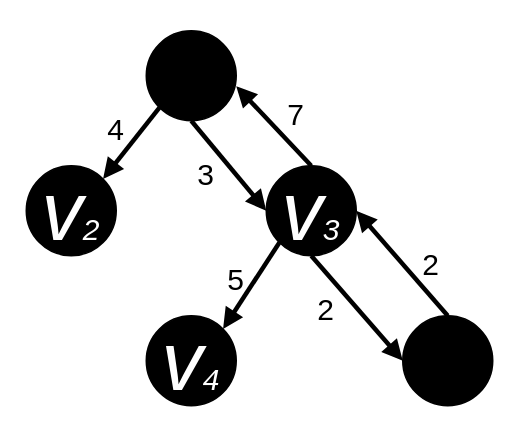
This 519x437 diagram has some shape labels left out. The centre of each missing label's shape, as x and y in pixels:
v 1: the point at 190,75
v 5: the point at 447,360
